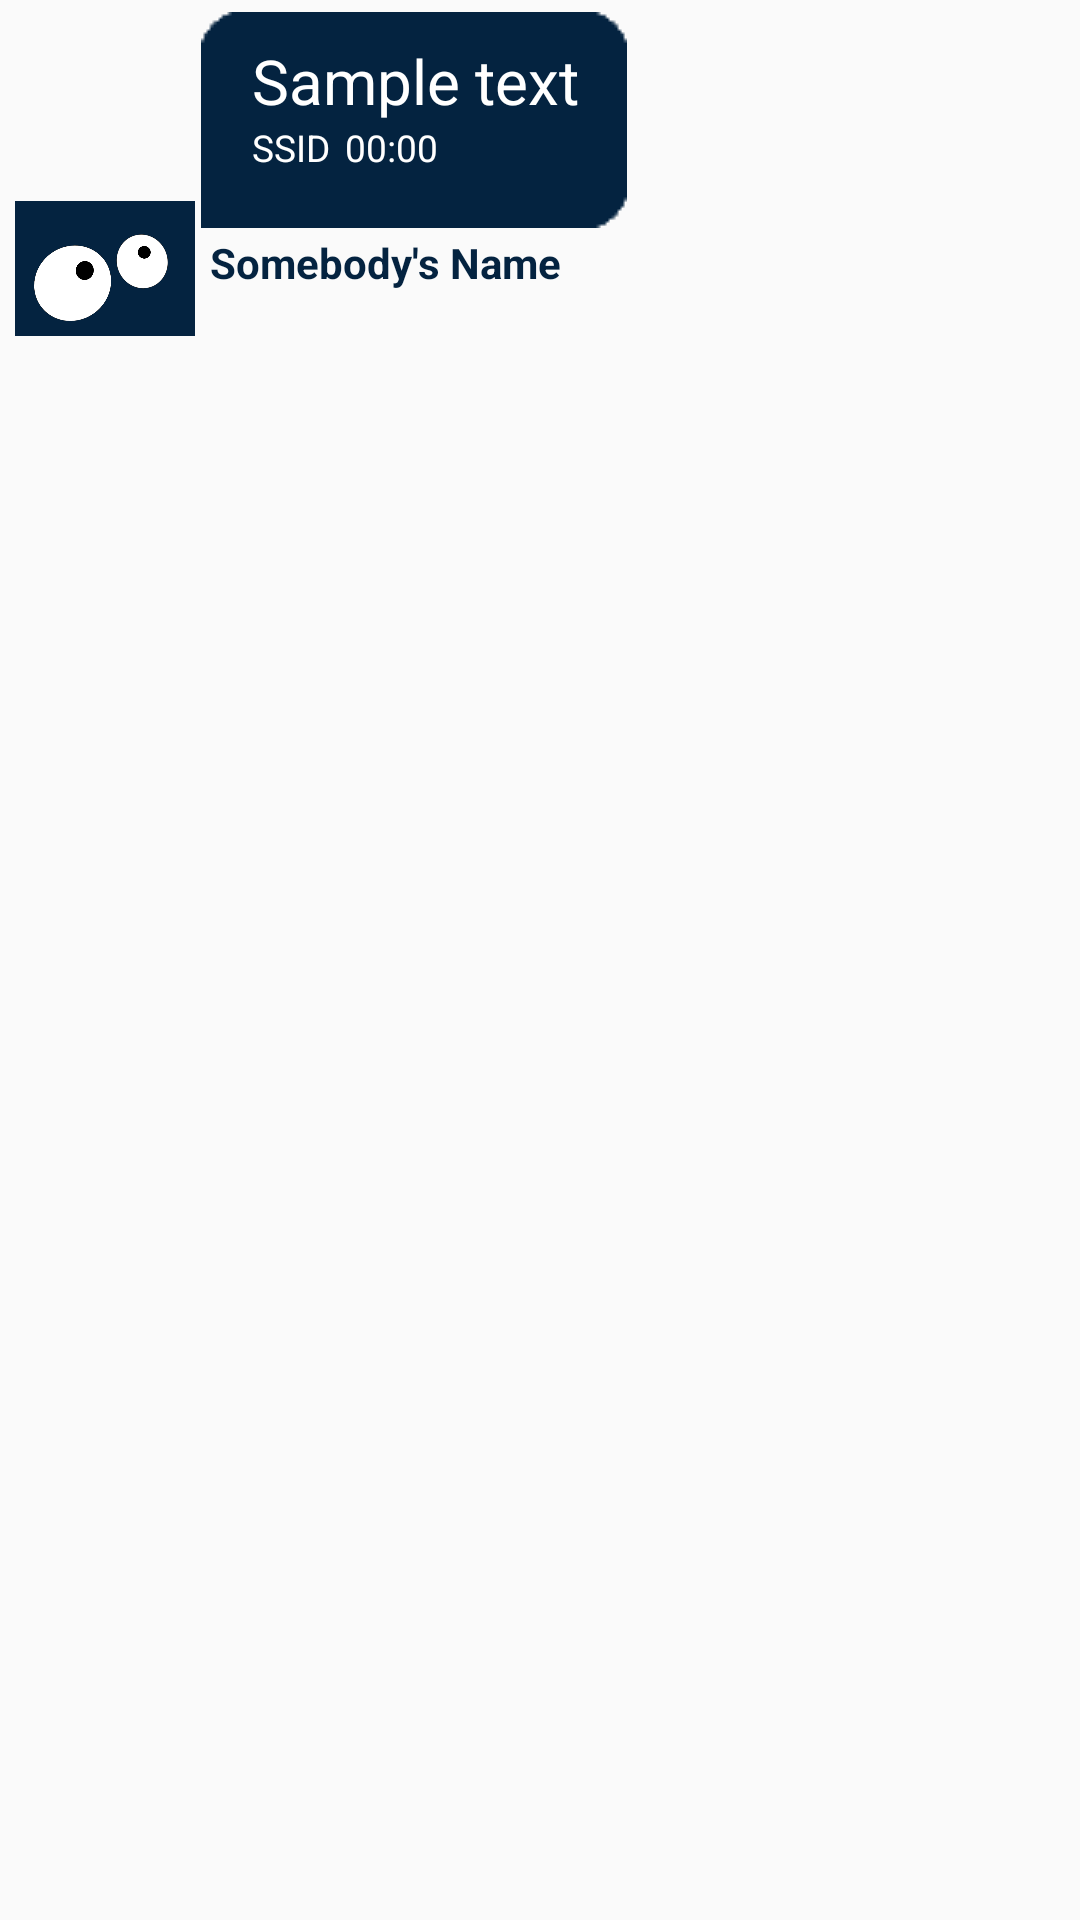

Where to tap for icons on this 1080 x 1920 app screen, as (x,y):
nophoto: (105,268)
